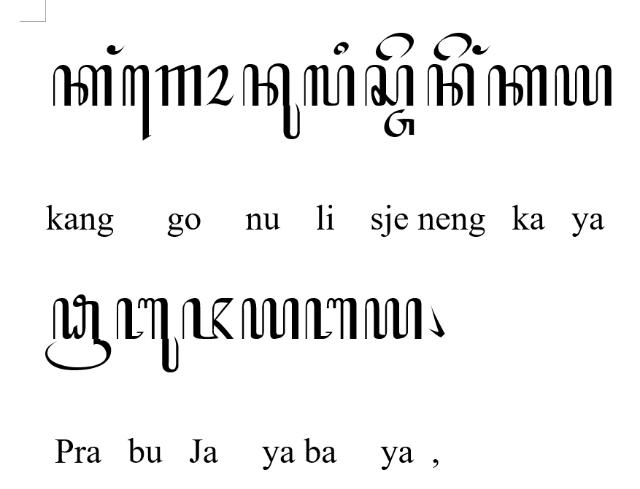Pr: (44, 294, 112, 372)
_j: (383, 109, 415, 139)
b: (304, 298, 358, 340)
bu: (116, 297, 180, 373)
e: (433, 31, 472, 62), (375, 31, 415, 61)
e1: (122, 64, 150, 142)
g: (154, 64, 203, 108)
i: (334, 41, 348, 55)
j: (183, 298, 235, 340)
k: (487, 64, 549, 108), (53, 63, 113, 107)
kom: (427, 305, 445, 339)
l: (303, 65, 355, 107)
n: (426, 62, 474, 107)
ng: (472, 44, 492, 56), (107, 44, 125, 56)
nu: (242, 63, 300, 141)
o: (206, 64, 234, 106)
s: (364, 64, 414, 108)
y: (363, 296, 422, 340), (554, 64, 612, 108), (241, 298, 299, 340)
